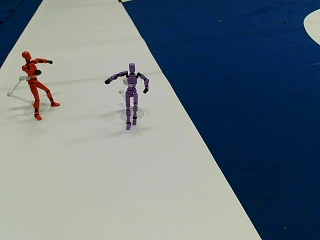pedestrian: (104, 64, 150, 127), (20, 50, 59, 119)
